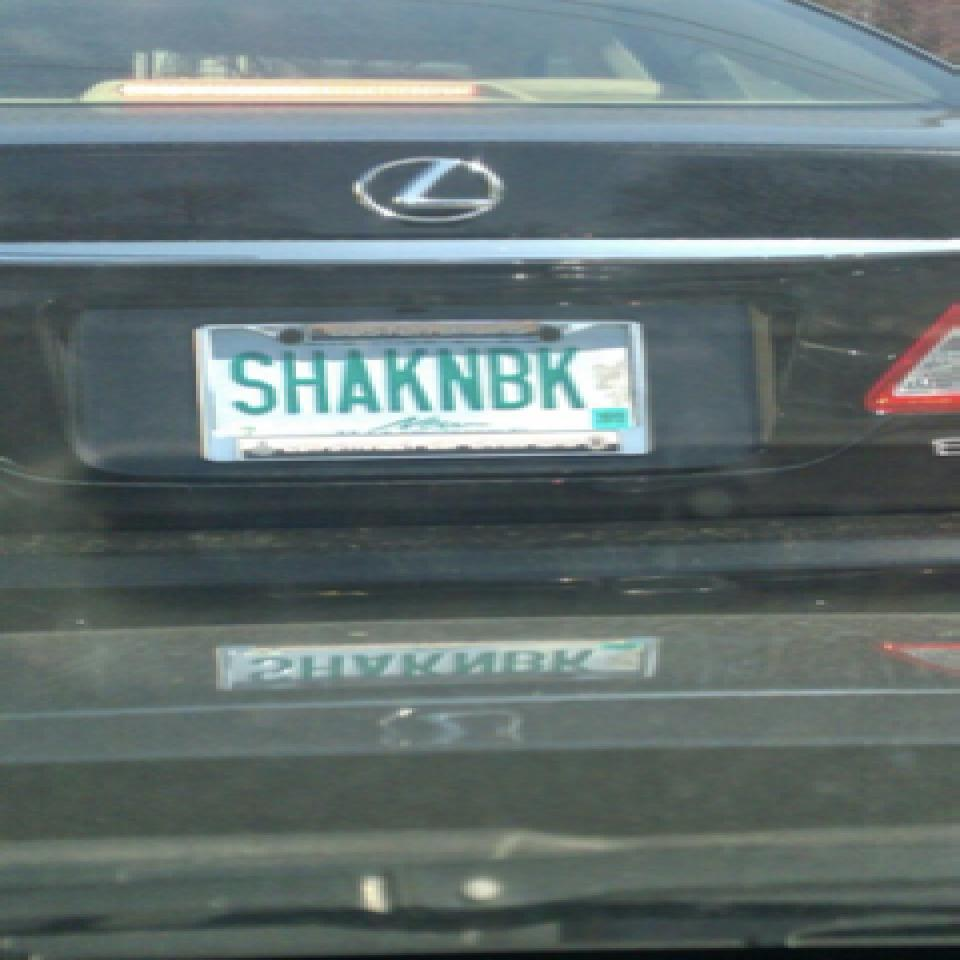licence: (192, 322, 652, 456)
